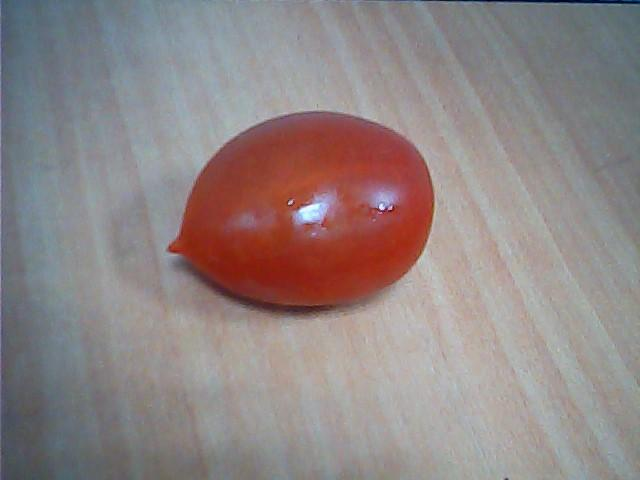maduro: (164, 109, 439, 313)
